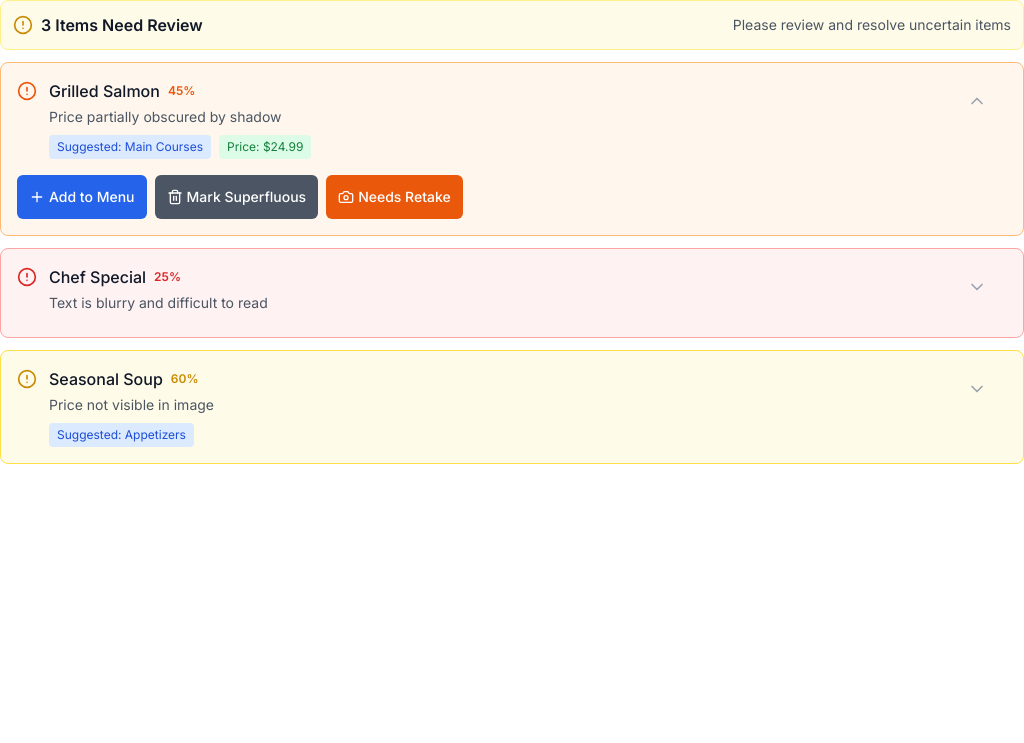
Test: UncertainItemsPanel › Add to Menu › should cancel edit form when Cancel is clicked
The image size is (1024, 743).
Click the button "Add to Menu".
click(82, 197)  # box [17,175,146,219]
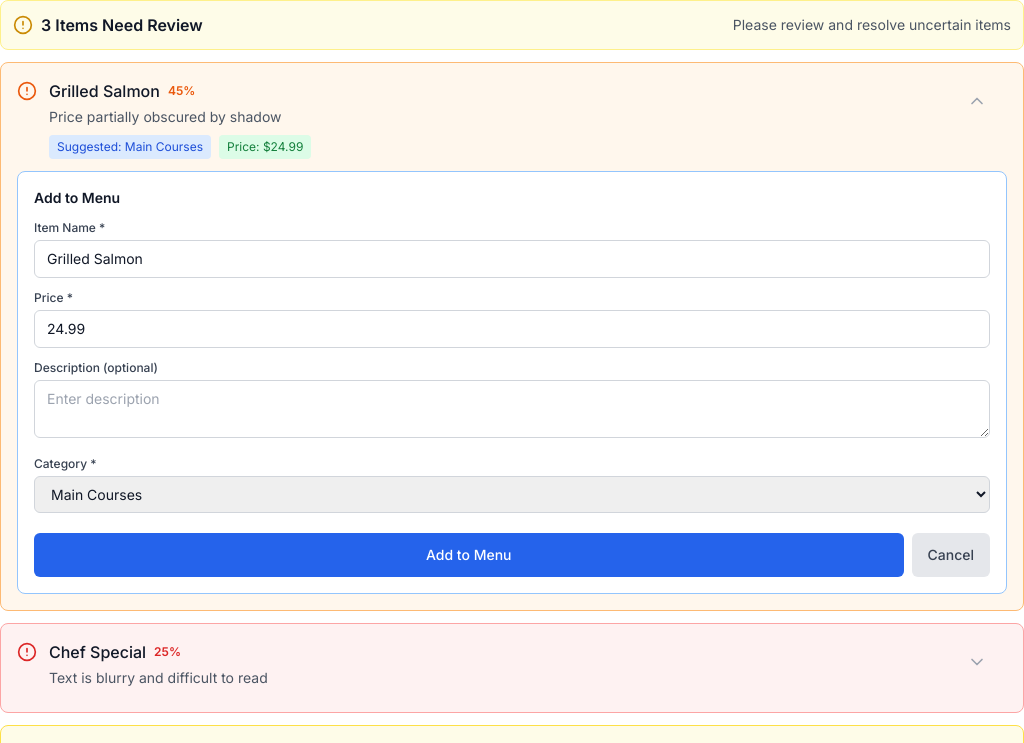
Check: the field labelled "Item Name *" is shown, box [34,240,990,278]
Click the button "Cancel".
click(951, 555)  # box [912,533,990,577]
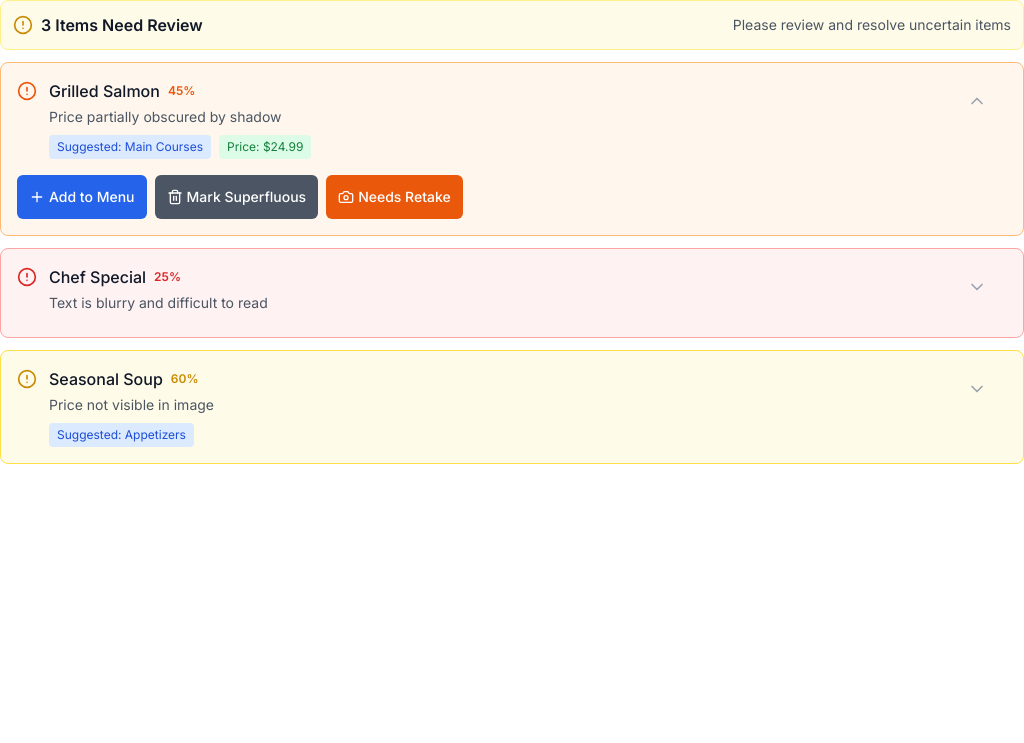
Check: the label labelled "Item Name *" is gone
